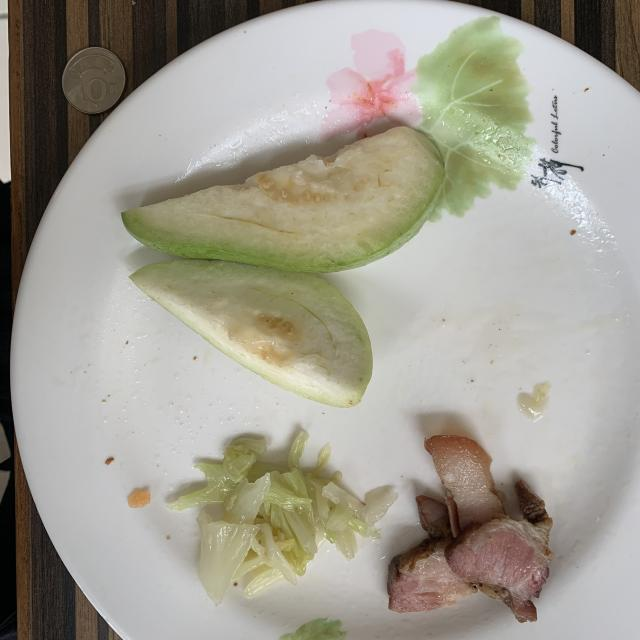cabbage: (169, 431, 396, 604)
coin: (62, 48, 125, 114)
grilled pork: (388, 435, 552, 622)
guava -sliced-: (122, 126, 445, 408)
